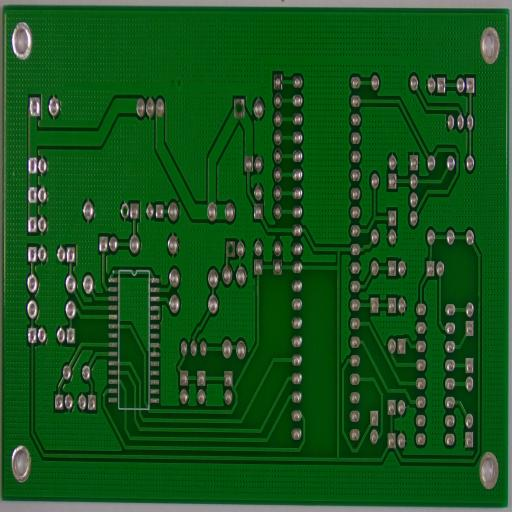missing_hole: (234, 95, 246, 117), (226, 238, 236, 259), (120, 200, 130, 220)
